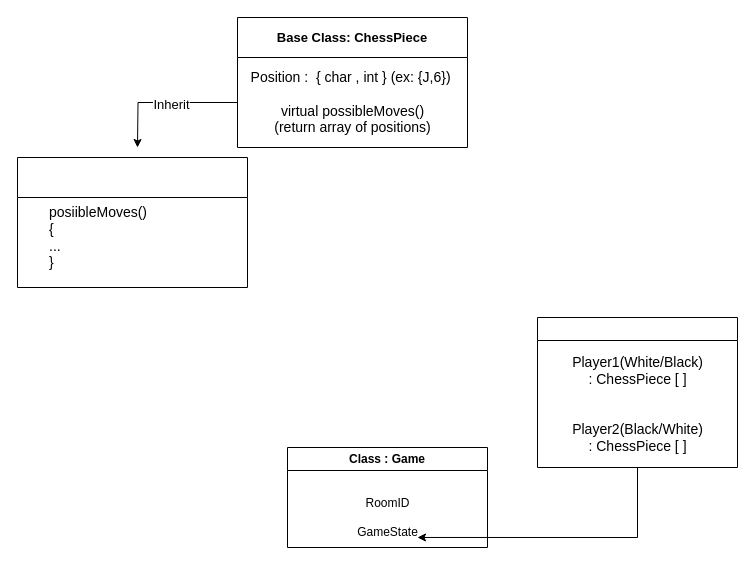
Some shapes in this 755 by 565 pixel diagram are drawn without their labels. Each missing label, with the box of its shape:
Class: GameState: (536, 316, 738, 468)
Derive Classes : Ex: Pawn,Bishop,knight: (16, 156, 248, 288)
